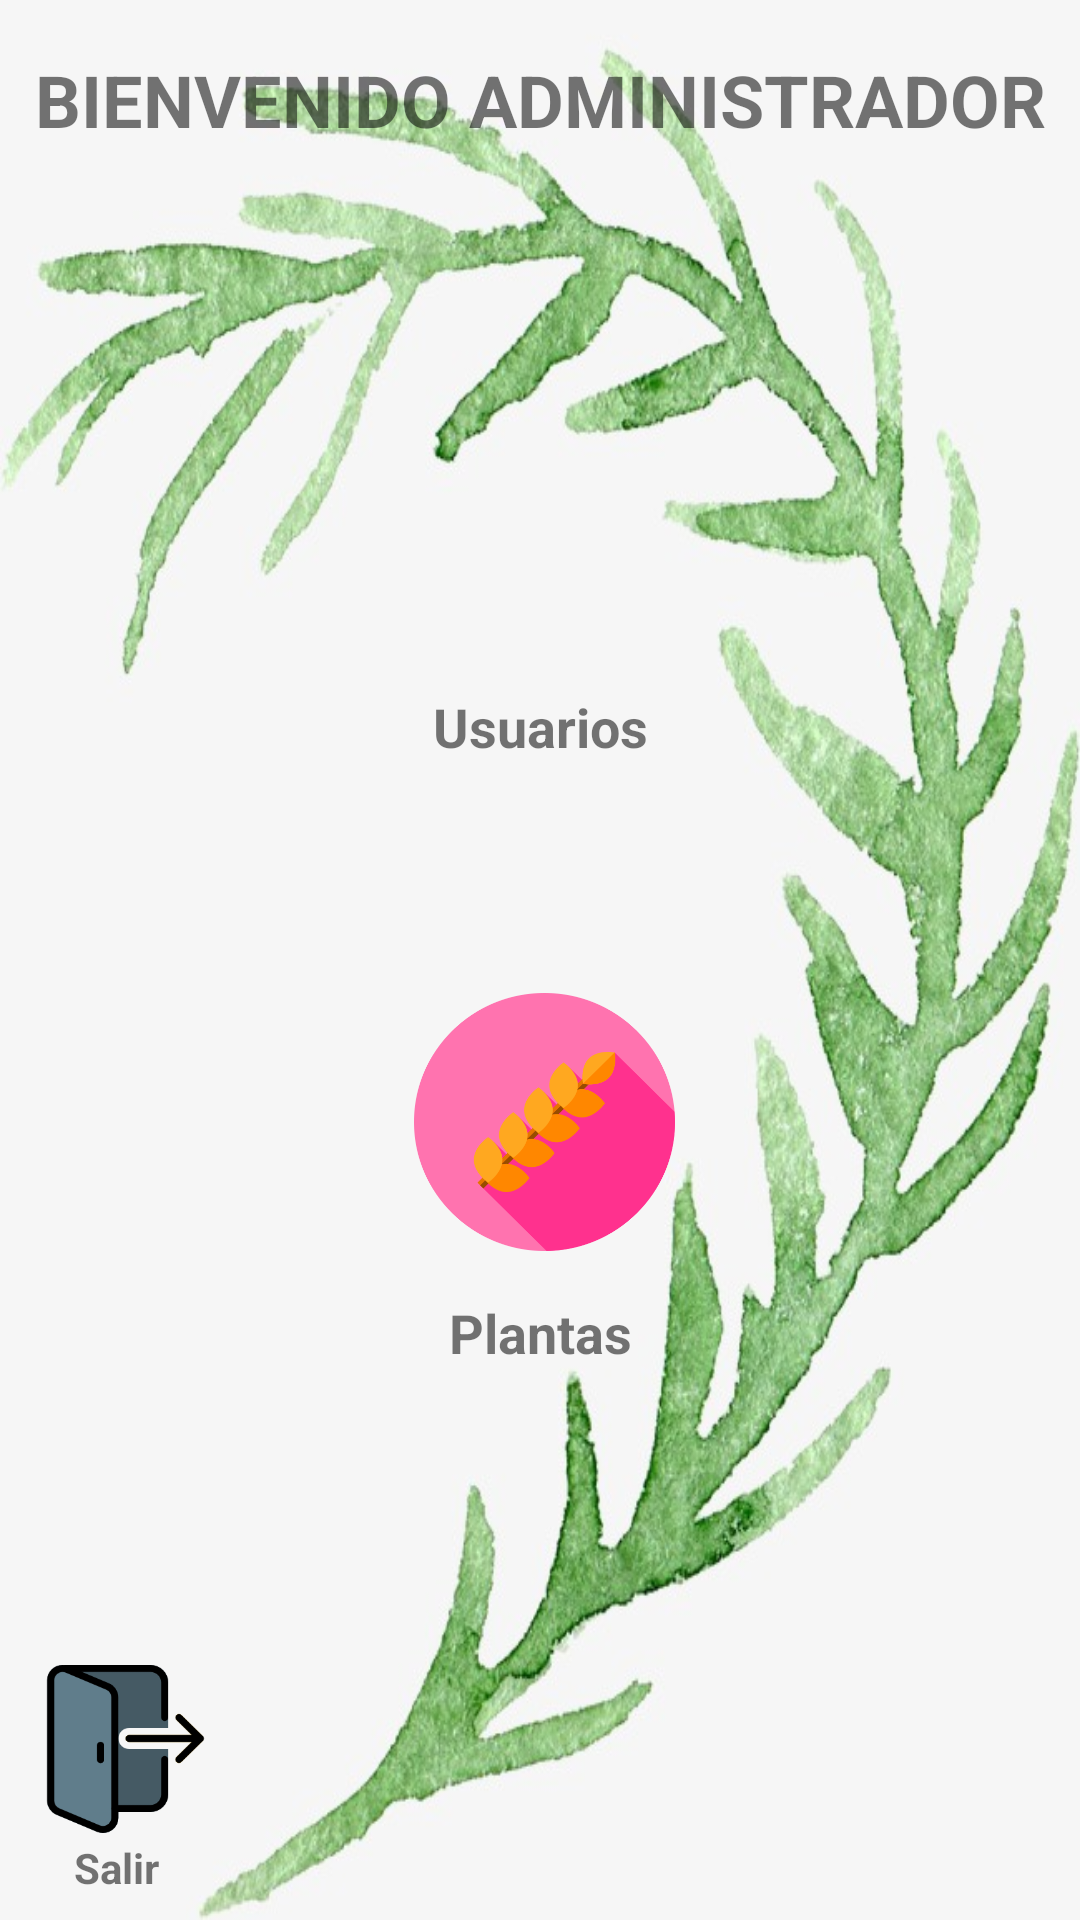

Icon click points for this 1080w x 1920h phone screenshot, format point (x, y):
wheat: point (544, 1122)
